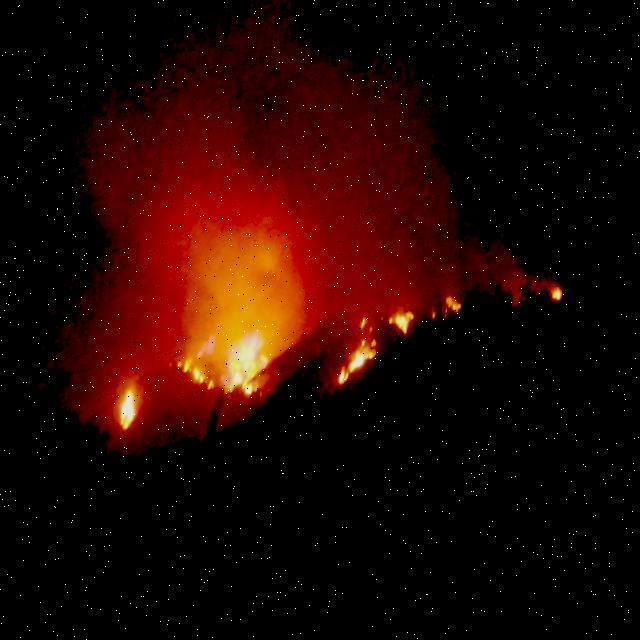Fire: (336, 317, 419, 423), (182, 336, 288, 418), (110, 391, 154, 440), (438, 304, 467, 341), (552, 302, 572, 326)
